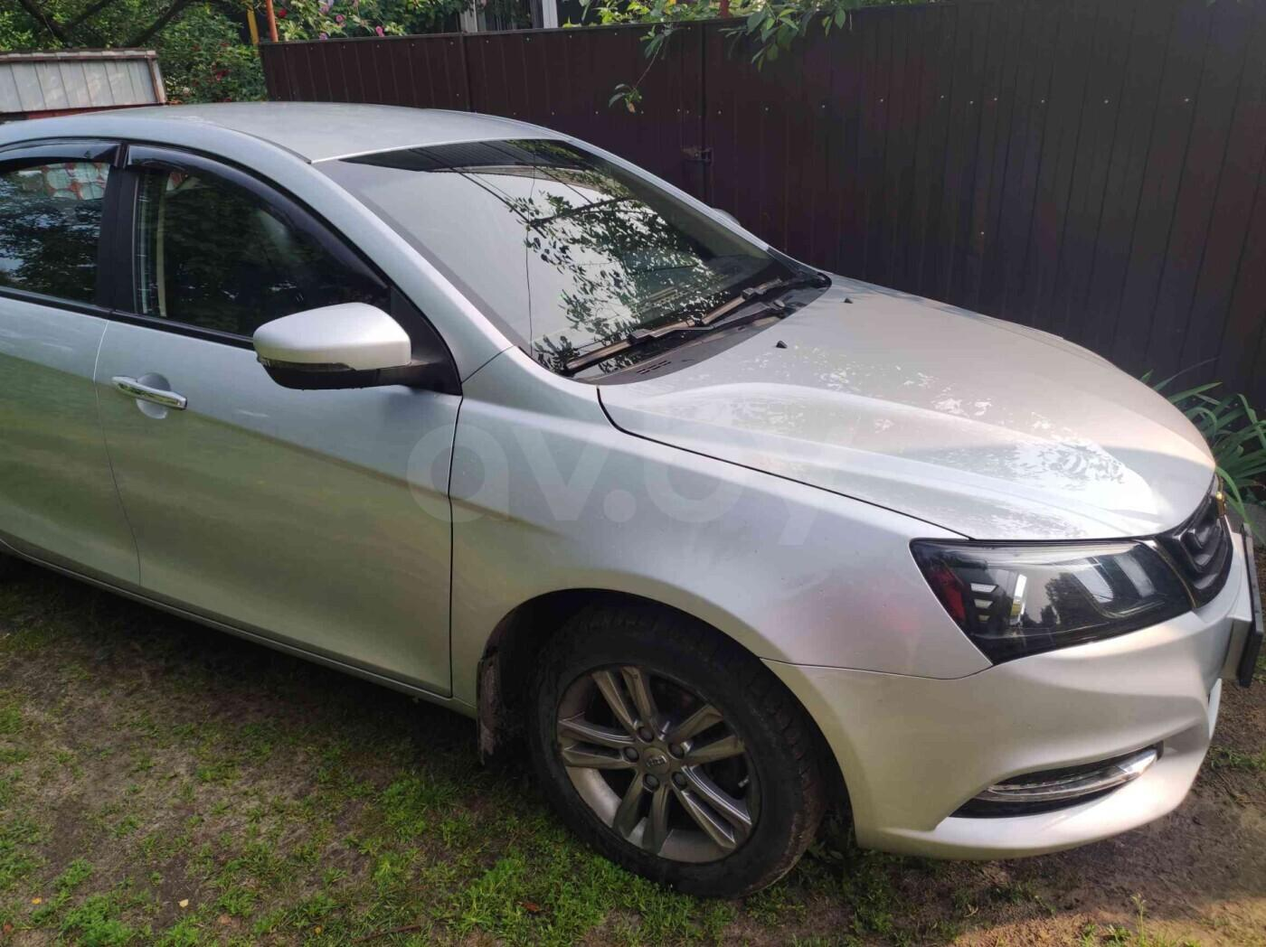Emgrand_2019-2021: (0, 101, 1265, 895)
